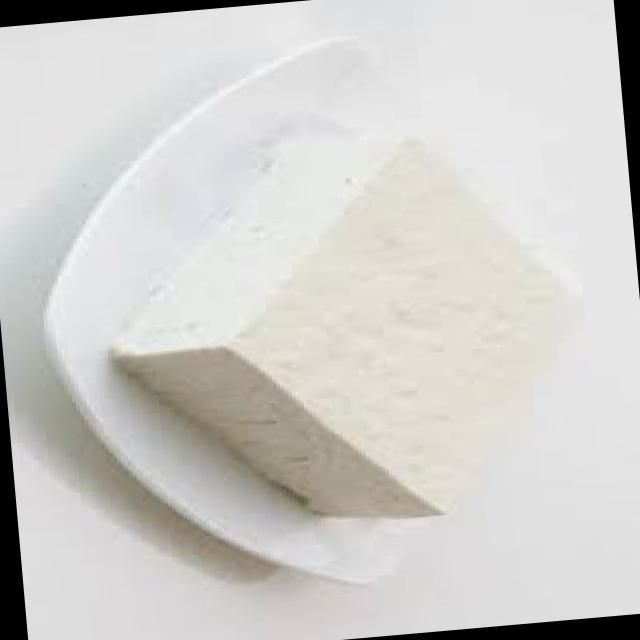tof: (90, 124, 598, 546)
